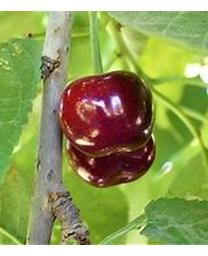cherry: (58, 70, 155, 156), (66, 121, 157, 188)
